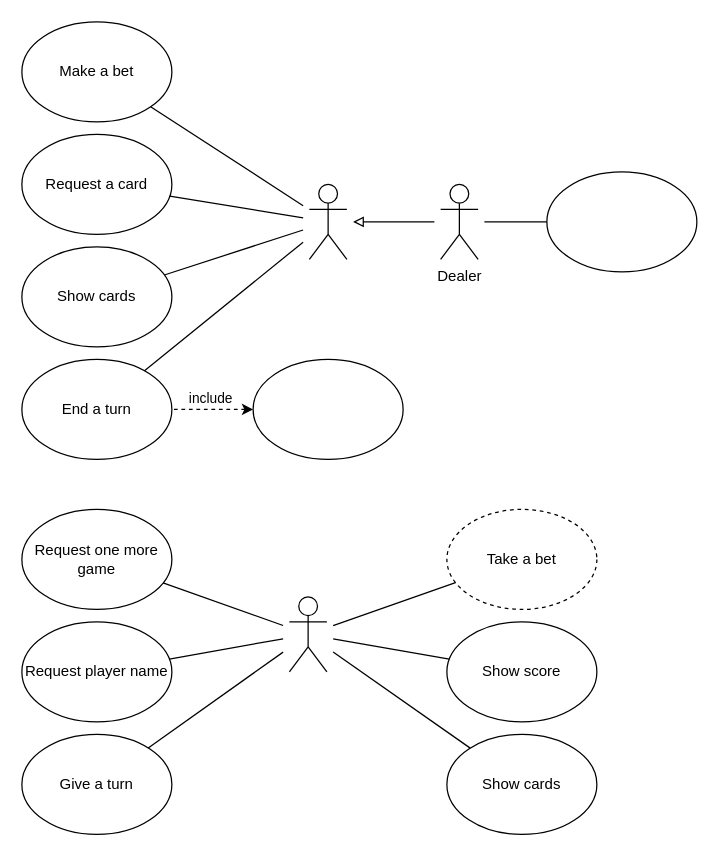
Some shapes in this 719 by 856 pixel diagram are drawn without their labels. The centre of each missing label's shape, as x and y in pixels:
Game: the point at 307,634
Give a card: the point at 621,221
Player: the point at 327,221
Skip a turn: the point at 327,408
